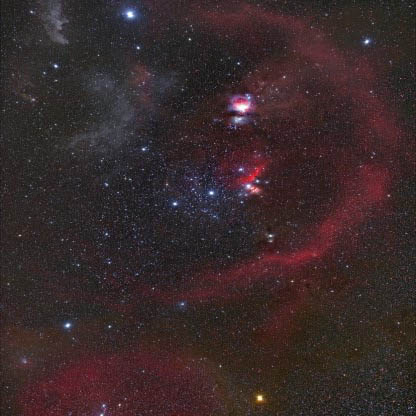Orion: (50, 313, 82, 340), (229, 170, 257, 198), (245, 384, 274, 411), (116, 6, 148, 29), (356, 28, 375, 56), (163, 192, 184, 214), (199, 180, 217, 204)
